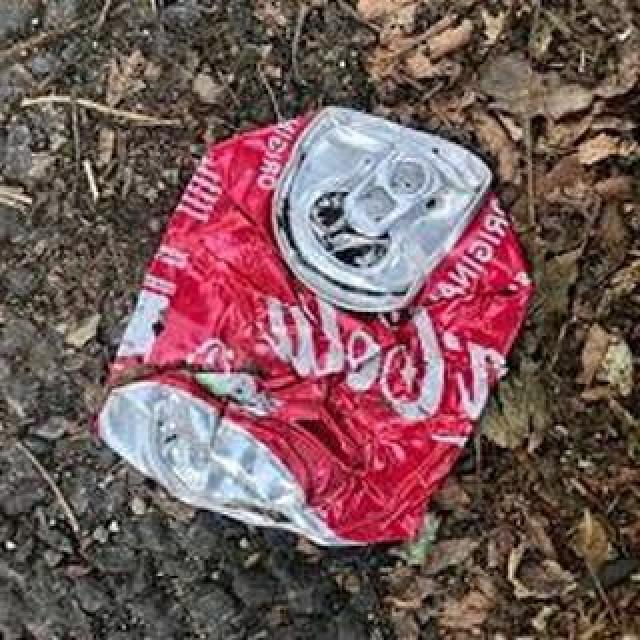Can: (88, 108, 534, 554)
